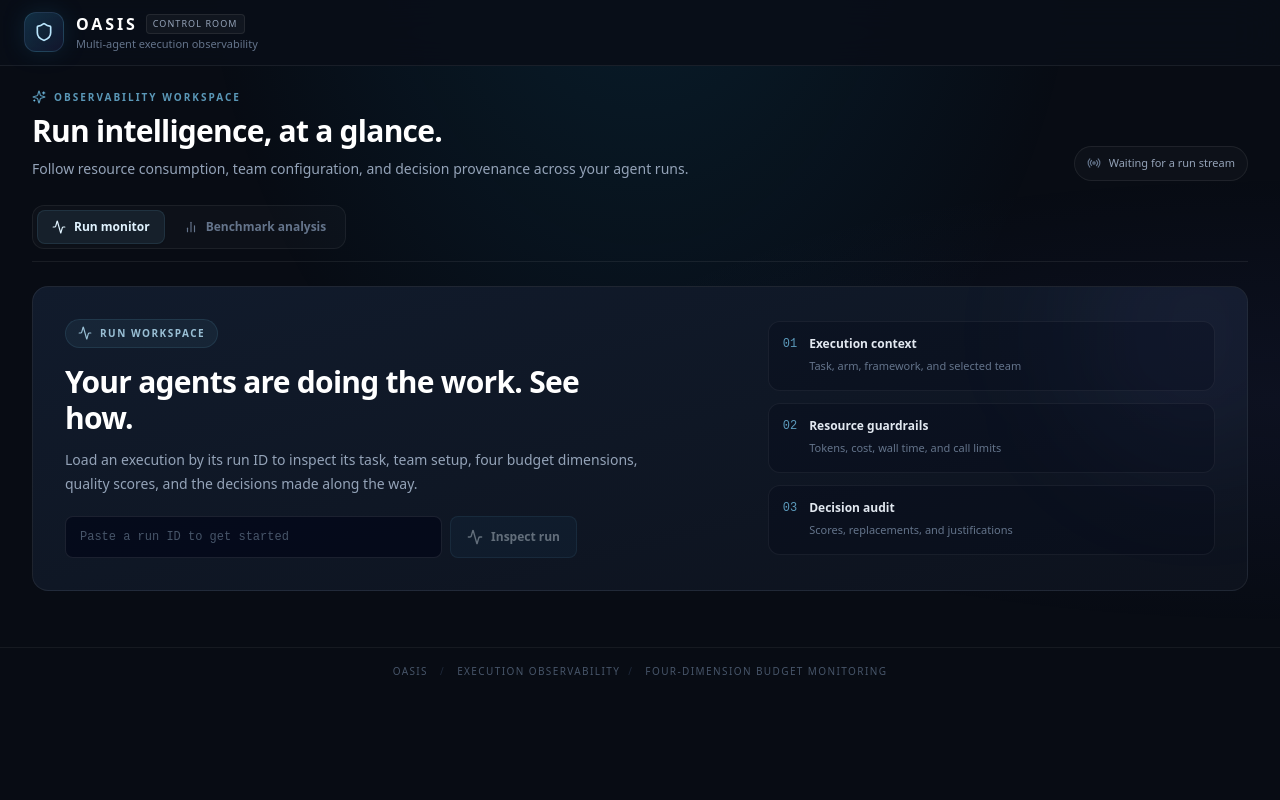
OASIS React Dashboard (FR-25) › displays API benchmark summaries instead of hardcoded benchmark results
Click the button "Benchmark analysis": click(255, 226) [169,210,341,244]
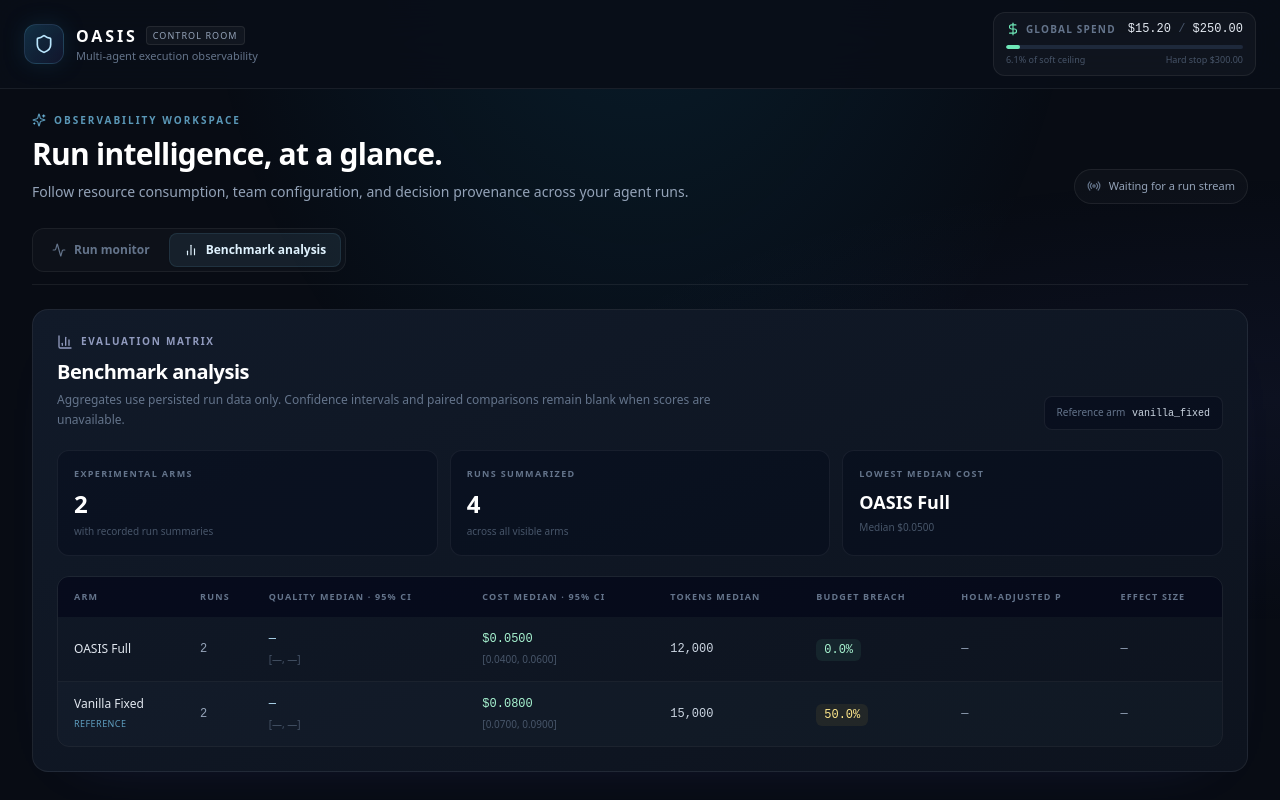
Now the text "Experimental arms" is shown, box [74,466,193,480]
Now the text "OASIS Full" below "Lowest median cost" is shown, box [859,490,950,514]
Now the text "Vanilla Fixed" is shown, box [74,695,144,712]
